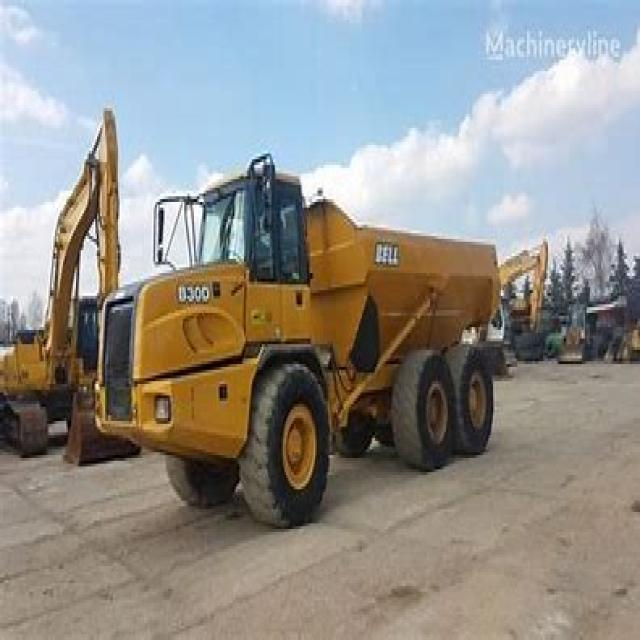dump_truck: (102, 168, 506, 520)
